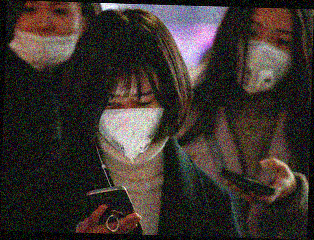mask_weared_incorrect: (7, 2, 85, 72)
with_mask: (93, 80, 167, 161), (233, 16, 297, 96)
